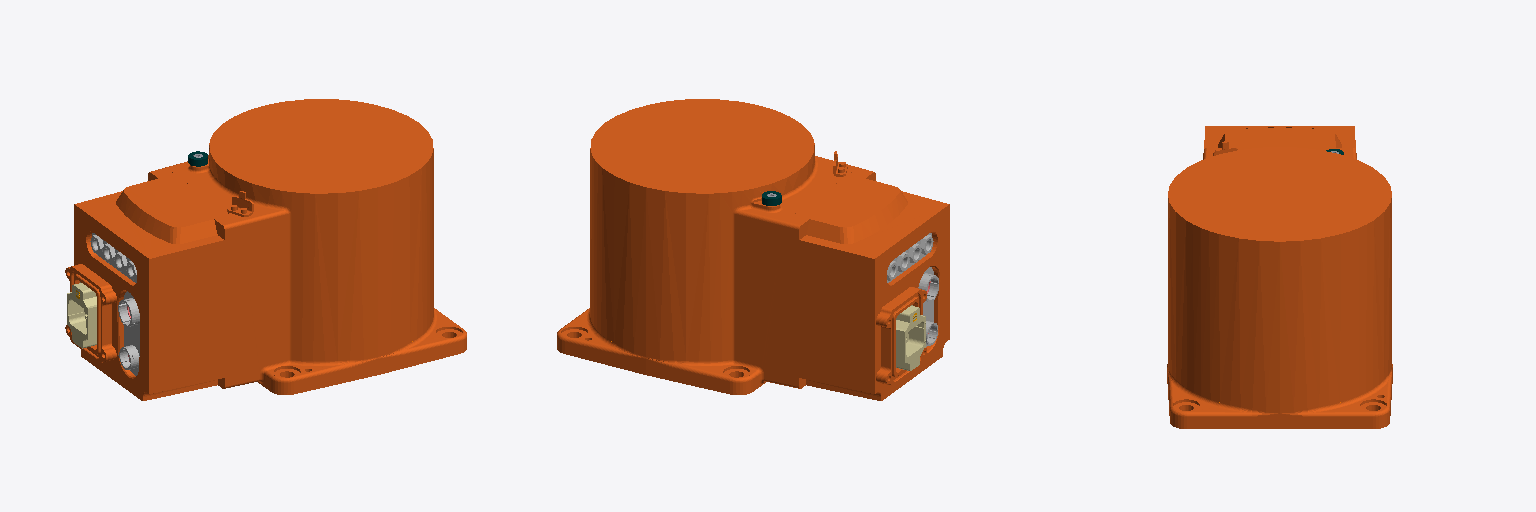
The picture shows the model from 3 angles: view 1: azimuth 30°, elevation 25°; view 2: azimuth 150°, elevation 25°; view 3: azimuth 270°, elevation 25°; orthographic projection.
Parts seen in each view (by area): view 1: NONE_DC_Shell; view 2: NONE_DC_Shell; view 3: NONE_DC_Shell.
Part boxes in pixels (x1,y1,x2,y2): NONE_DC_Shell: (65, 99, 466, 400); NONE_DC_Shell: (557, 99, 949, 400); NONE_DC_Shell: (1167, 126, 1392, 428).
Size of the model in its own units: 301 by 166 by 181.